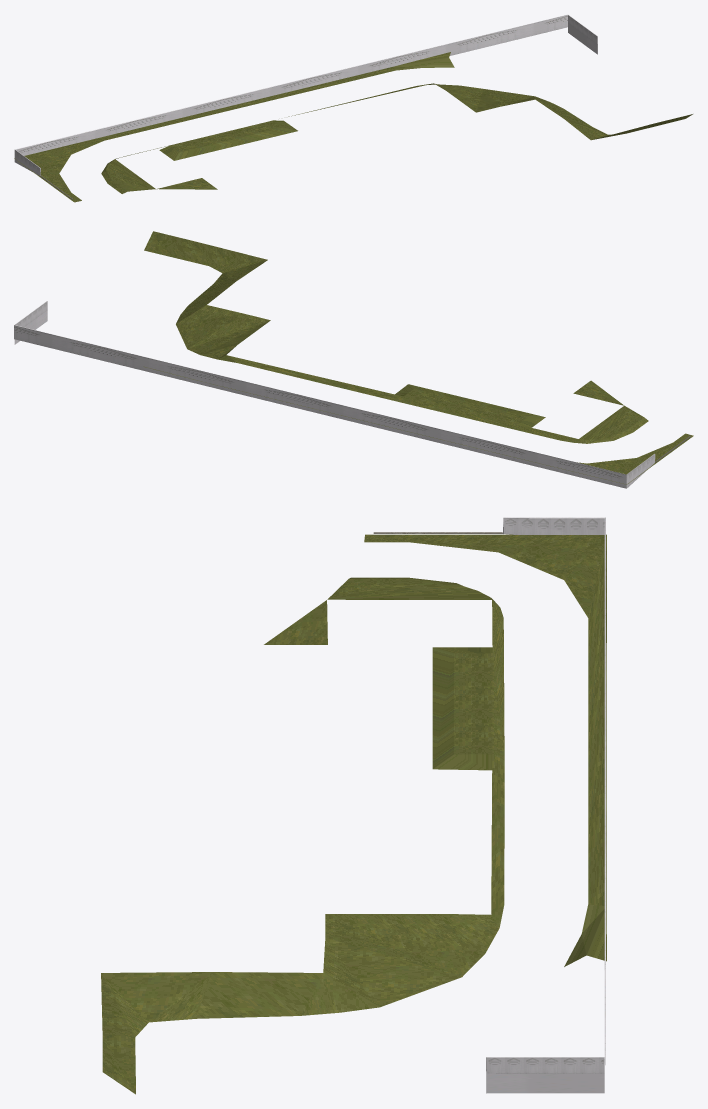
Rendered from lodagebuild10.obj.
3 views of the same model, one above another, from view 1: azimuth 30°, elevation 25°; view 2: azimuth 150°, elevation 25°; view 3: azimuth 270°, elevation 25° (orthographic). The views are drawn at different scales.
Visible parts, largest first — view 1: lodagebuild10; view 2: lodagebuild10; view 3: lodagebuild10.
Boxes of the visible parts, left/top/right/bottom form: lodagebuild10: left=14, top=14, right=692, bottom=202; lodagebuild10: left=14, top=231, right=693, bottom=488; lodagebuild10: left=101, top=517, right=606, bottom=1094.
Bounding box in the file's own units: 190 × 6.13 × 75.15.
Materials: 3 (3 with a texture image).
